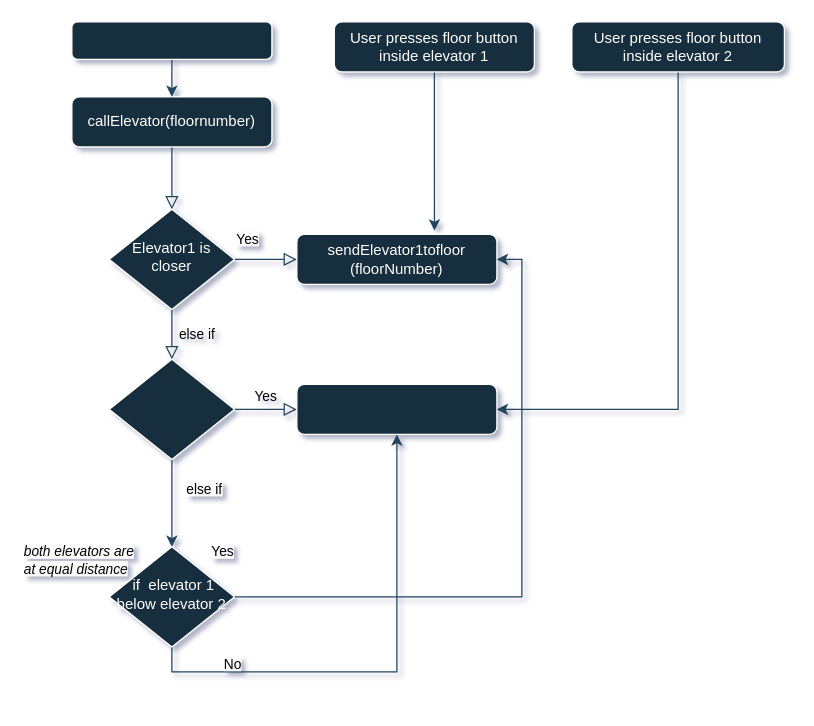
This 814x726 diagram has some shape labels left out. Here are the shapes that lost their labels. From the top down, the box of each, then its label:
(71, 21, 272, 59): User presses call elevator button from any floor
(108, 358, 234, 459): Elevator2 is closer
(296, 383, 497, 434): sendElevator2tofloor (floorNumber)
